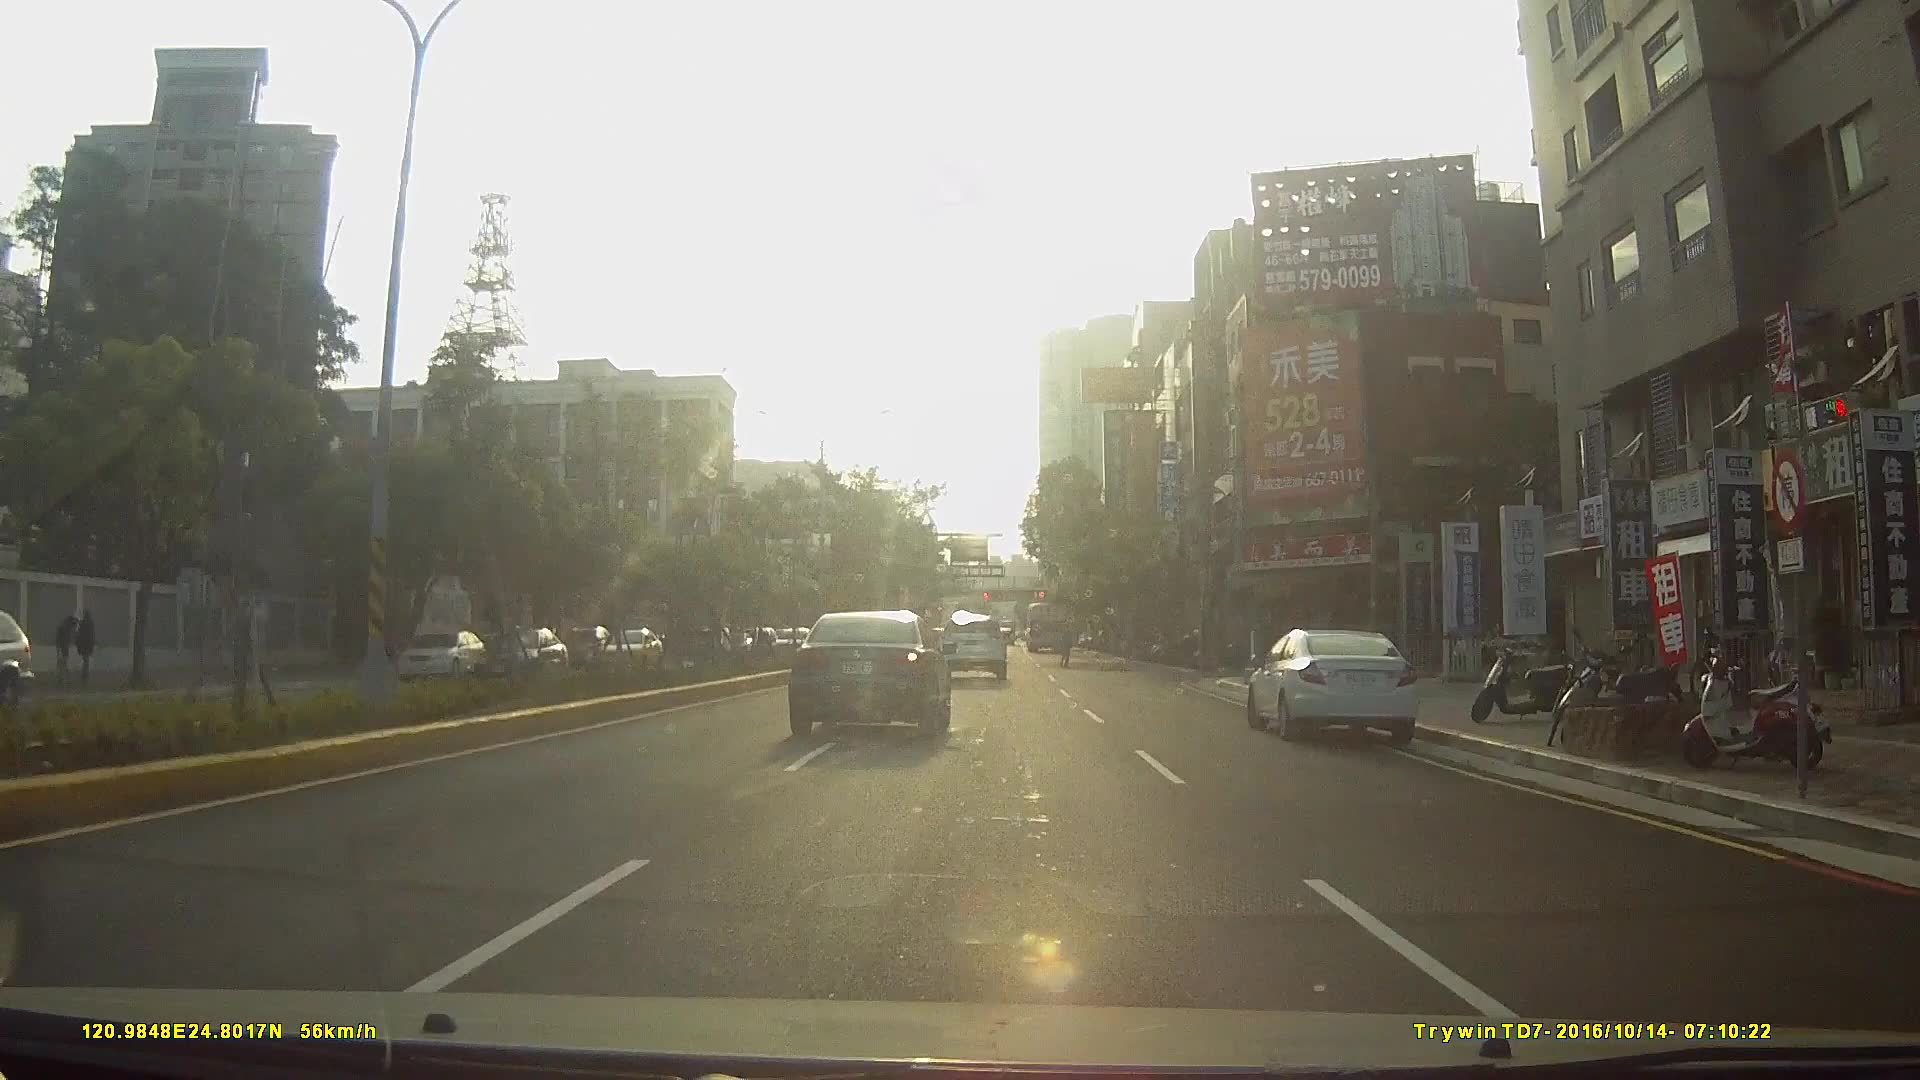pedestrian: (54, 613, 81, 684), (77, 607, 98, 681)
vehicle: (1249, 622, 1431, 745), (786, 607, 953, 739), (480, 623, 576, 690), (935, 608, 1007, 679), (388, 626, 481, 680), (588, 622, 666, 673), (463, 623, 534, 669), (1021, 597, 1066, 652)
